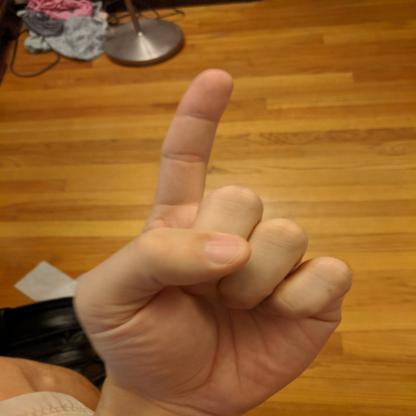D: (67, 64, 358, 416)
